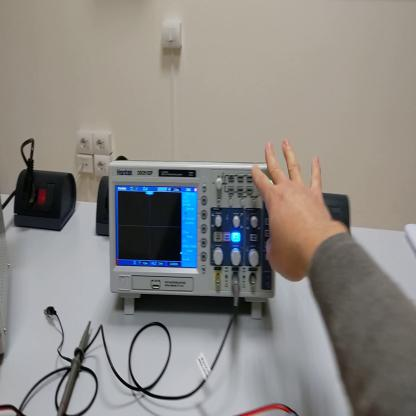hand: (251, 139, 337, 285)
oscilloscope: (111, 158, 283, 319)
oscilloscope probe tip: (57, 321, 93, 416)
power supply: (2, 198, 15, 362)
socket: (12, 174, 78, 234), (95, 177, 112, 240)
